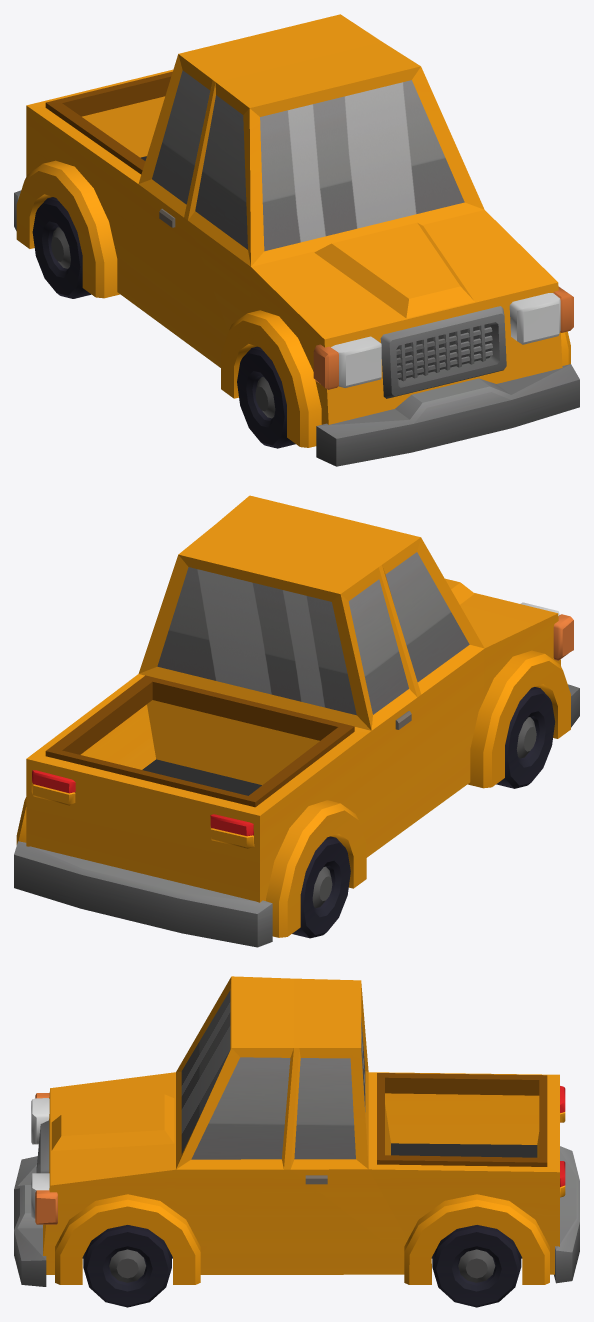
Rendered from PickUp_13.glb.
The picture shows the model from 3 angles, top to bottom: view 1: azimuth 30°, elevation 25°; view 2: azimuth 150°, elevation 25°; view 3: azimuth 270°, elevation 25°; orthographic projection. The views are drawn at different scales.
Parts seen in each view (by area): view 1: PickUp_13, BWhel_BR, BWhel_FR; view 2: PickUp_13, BWhel_BR, BWhel_FR; view 3: PickUp_13, BWhel_BL, BWhel_FL.
Boxes of the visible parts, x1,y1,x2,y2 form: PickUp_13: [14, 14, 579, 466]; BWhel_BR: [32, 197, 91, 298]; BWhel_FR: [237, 346, 295, 448]; PickUp_13: [14, 495, 579, 947]; BWhel_BR: [292, 836, 350, 938]; BWhel_FR: [496, 687, 554, 788]; PickUp_13: [14, 976, 579, 1286]; BWhel_BL: [432, 1225, 521, 1307]; BWhel_FL: [83, 1225, 171, 1307].
Bounding box in the file's own units: 1.09 × 1.08 × 2.3.
Materials: 6 (6 with a texture image).
